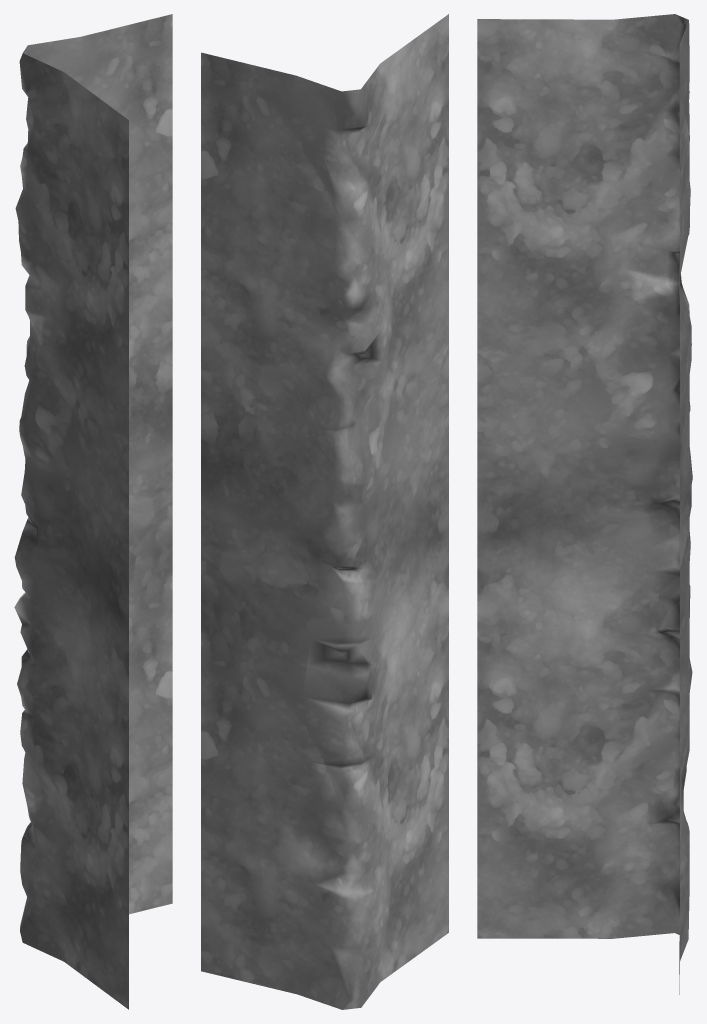
The model's file is SM_CornerCobble_01a.fbx.
3 views of the same model, side by side, from view 1: azimuth 30°, elevation 25°; view 2: azimuth 150°, elevation 25°; view 3: azimuth 270°, elevation 25° (orthographic). The views are drawn at different scales.
Visible parts, largest first — view 1: SM_CornerCobble_01a_LOD0; view 2: SM_CornerCobble_01a_LOD0; view 3: SM_CornerCobble_01a_LOD0.
Boxes of the visible parts, left/top/right/bottom form: SM_CornerCobble_01a_LOD0: left=14, top=14, right=172, bottom=1009; SM_CornerCobble_01a_LOD0: left=201, top=14, right=448, bottom=1009; SM_CornerCobble_01a_LOD0: left=477, top=14, right=692, bottom=994.
Bounding box in the file's own units: 56.2 × 63.77 × 300.
